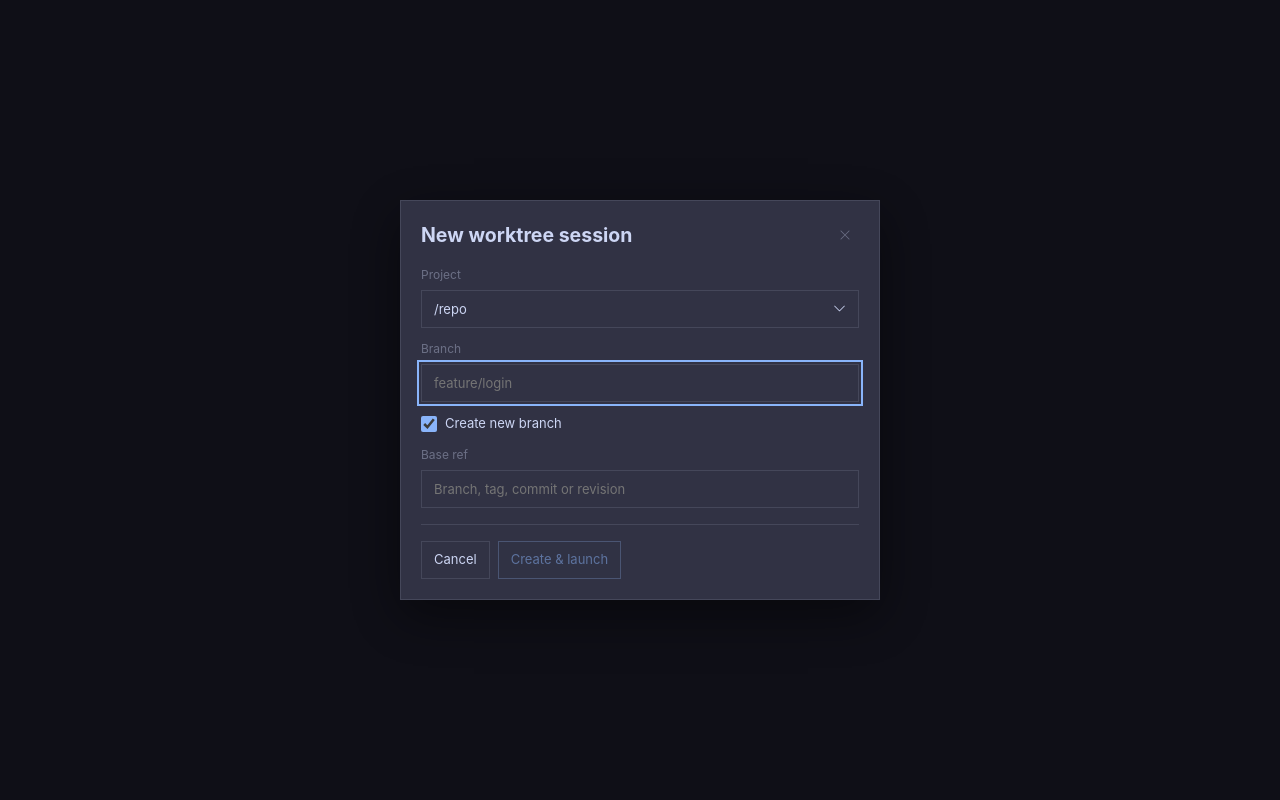
Test case: WorktreeFormModal machine ownership › ignores a previous project default arriving after a project switch
The image size is (1280, 800).
Click the dropdown named "Project" at (450,309), box [421,290,859,328]
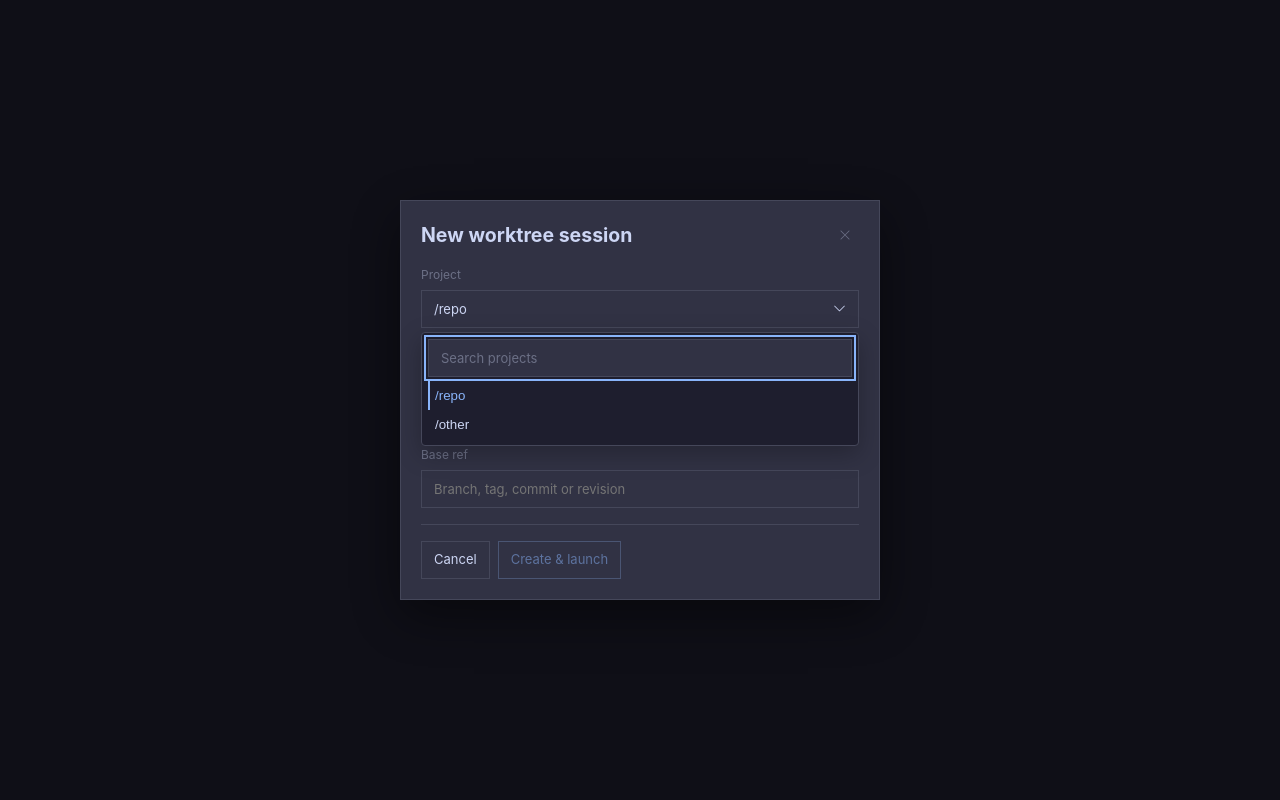
Click the option "/other" at (452,425), box [428,410,852,439]
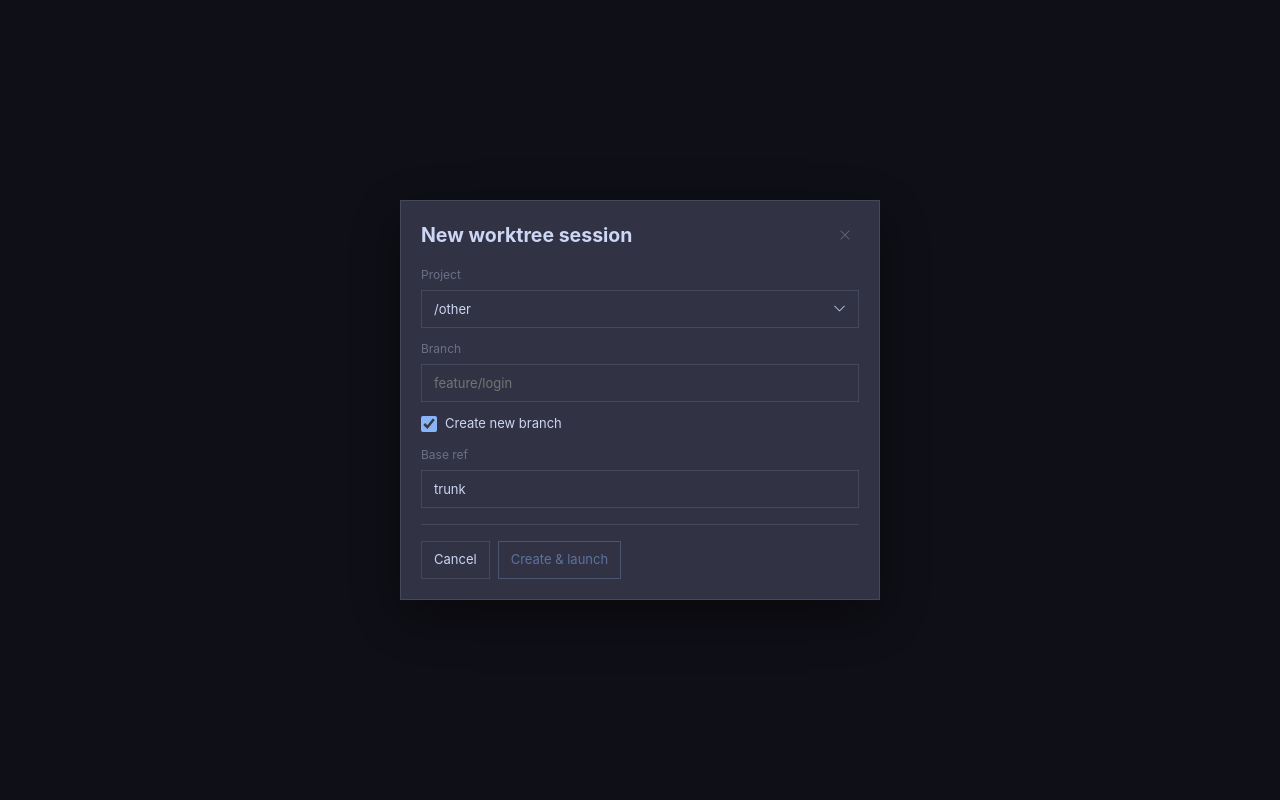
Expected: the field labelled "Base ref" holds "trunk", [421,470,859,508]
